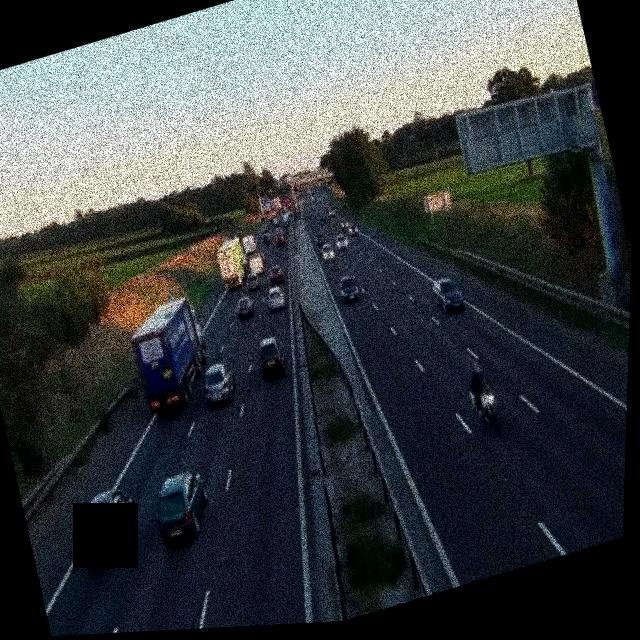car: (71, 484, 145, 566), (147, 465, 216, 545), (462, 361, 503, 433), (198, 359, 238, 408), (254, 334, 288, 381), (430, 272, 466, 315), (335, 271, 360, 304), (233, 293, 257, 321), (265, 285, 288, 312), (266, 263, 284, 287), (319, 240, 335, 263), (245, 269, 262, 290), (333, 231, 349, 251), (313, 230, 325, 246), (348, 219, 359, 236), (337, 218, 348, 234), (274, 231, 286, 245), (325, 205, 335, 218)
truck: (121, 291, 217, 415), (213, 237, 251, 289)
